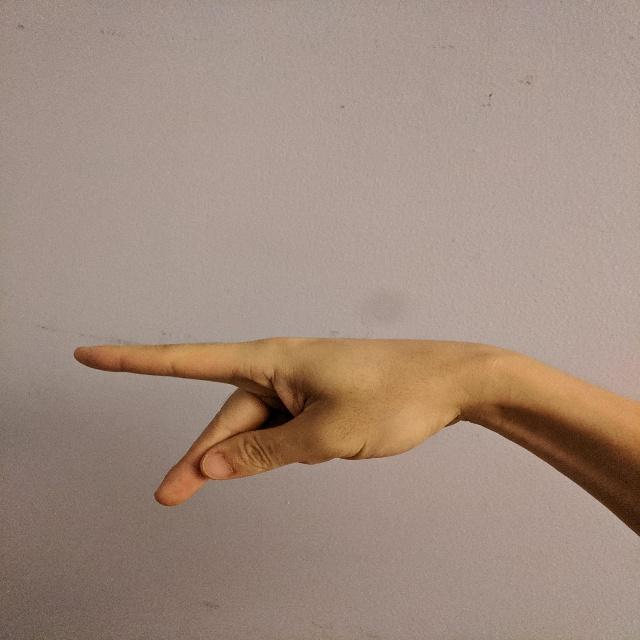P: (69, 329, 470, 512)
